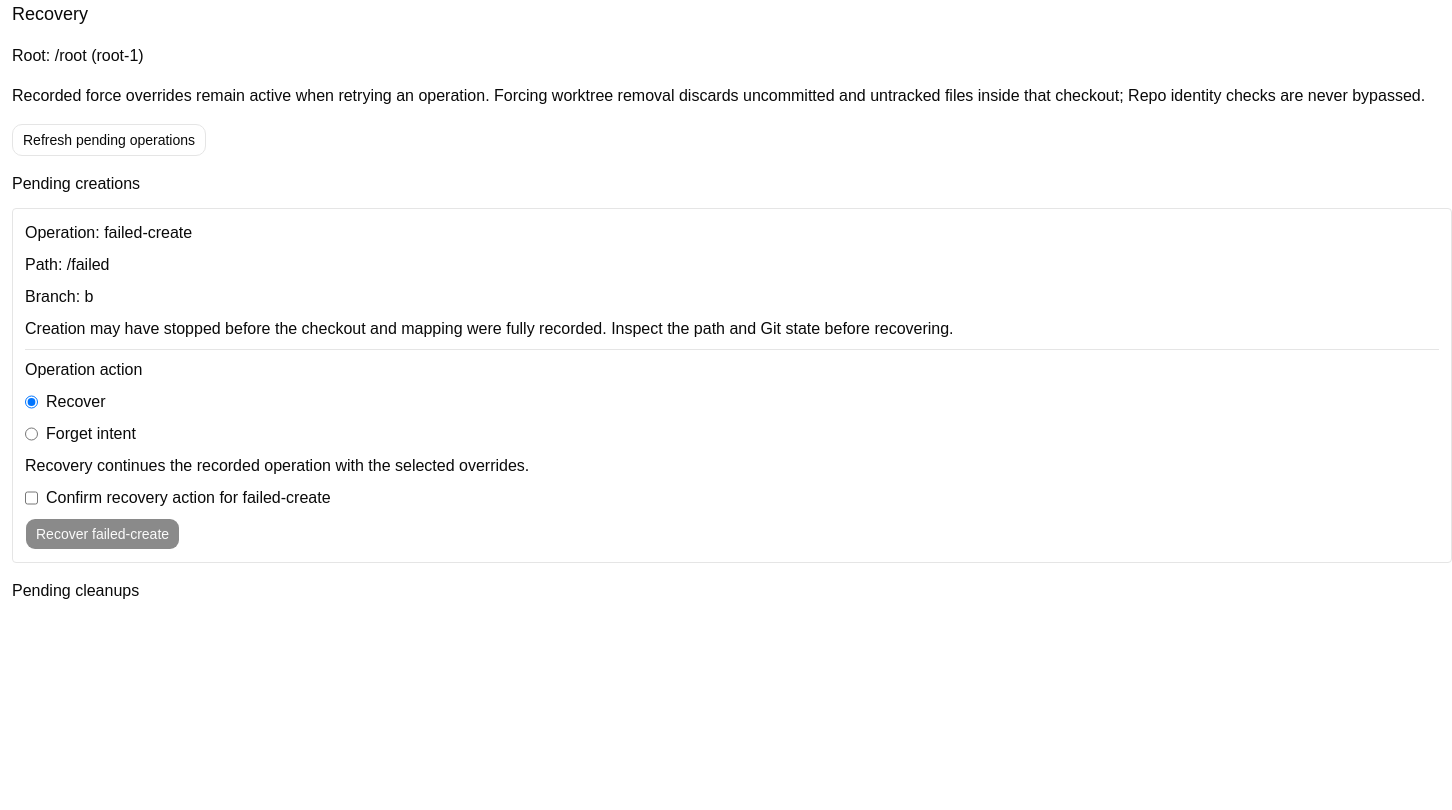
Test case: clears confirmation after a failed recovery attempt
Expected: the text "Path: /failed" is shown, [25,256,110,273]
Click the checkbox labelled "Confirm recovery action for failed-create". click: (32, 498)
box: [25,486,38,510]
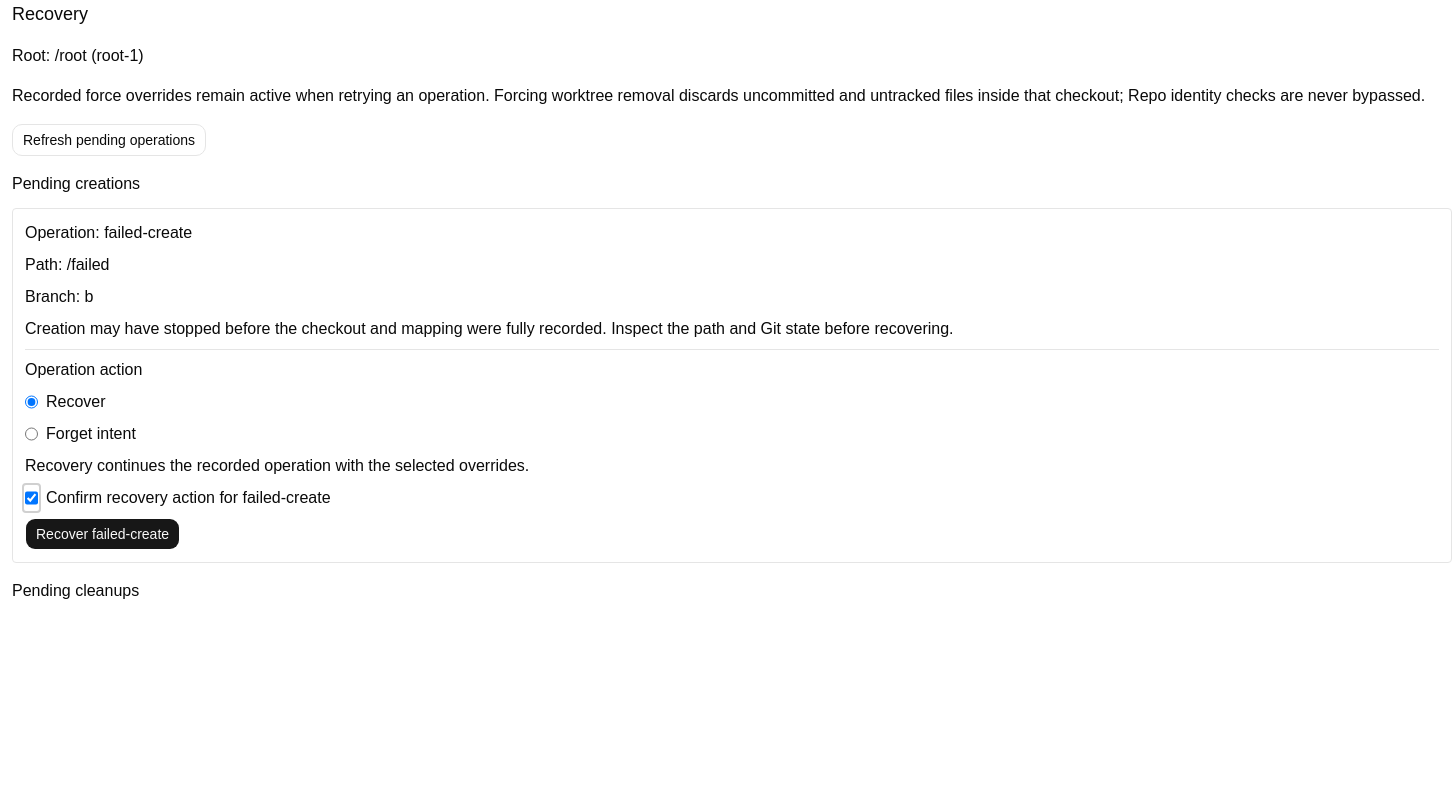
Click the button "Recover failed-create". click: (103, 534)
box: [25,518,180,550]
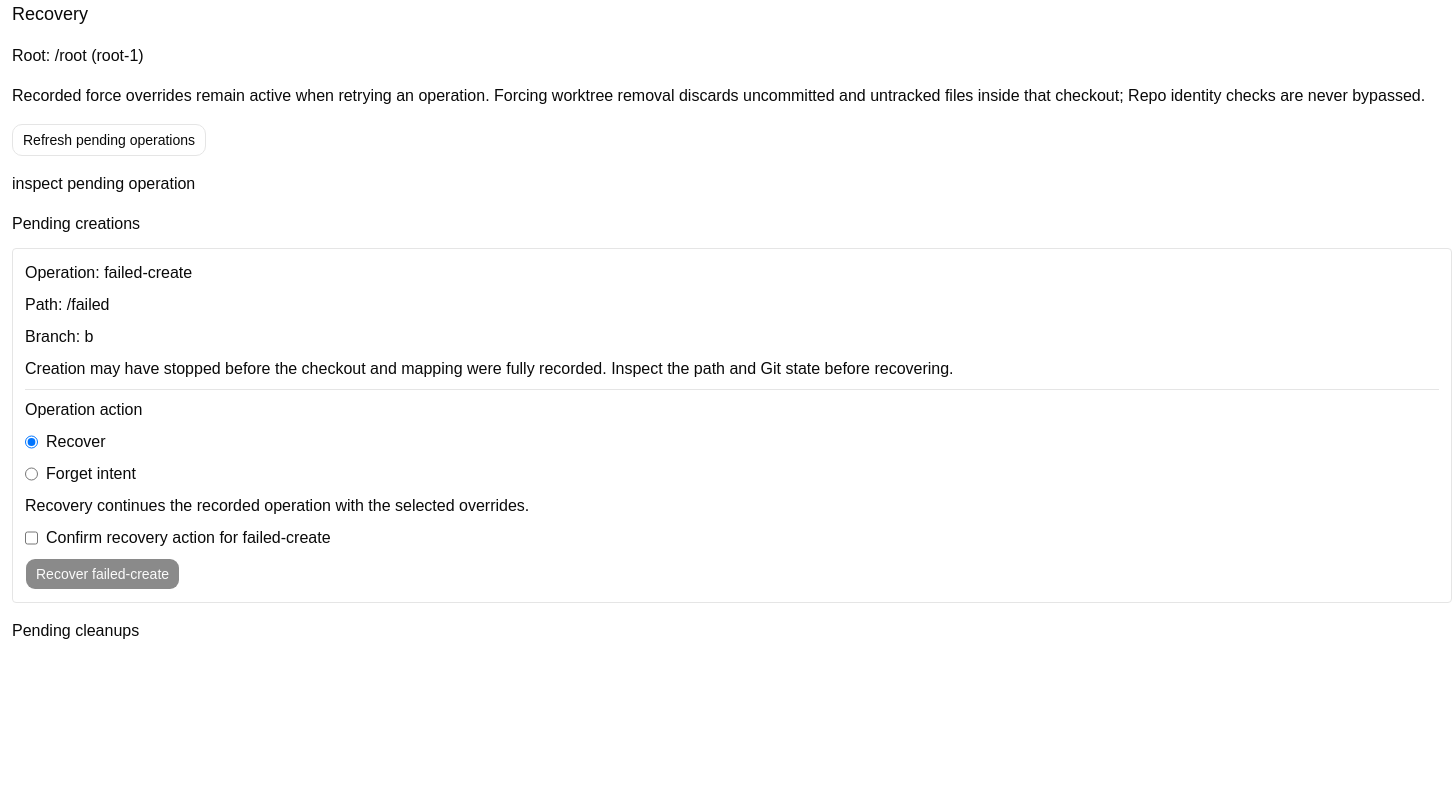
Now the checkbox labelled "Confirm recovery action for failed-create" is not checked, box [25,526,38,550]
Now the message reads "inspect pending operation", box [12,175,195,192]
